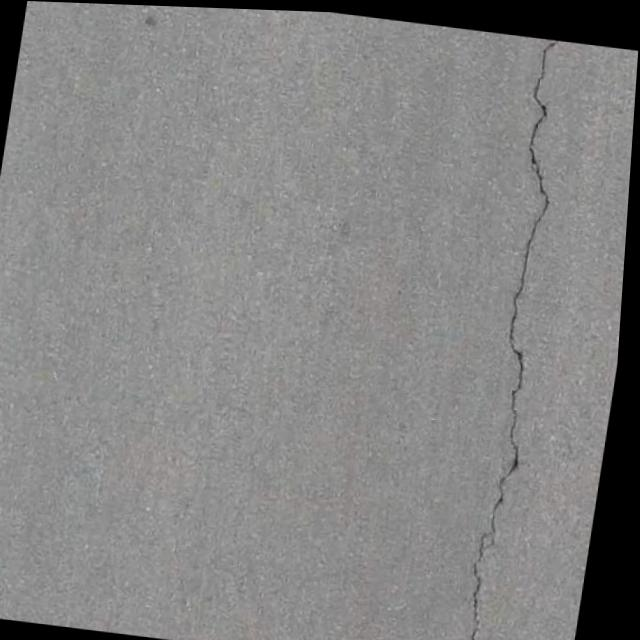Crack: (437, 31, 593, 640)
